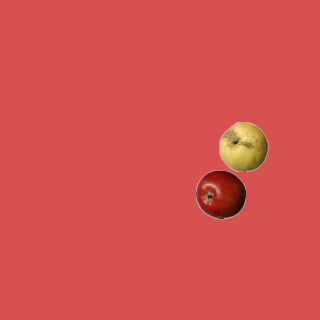Apple Braeburn: (195, 169, 245, 219)
Apple Golden 1: (218, 121, 268, 171)
